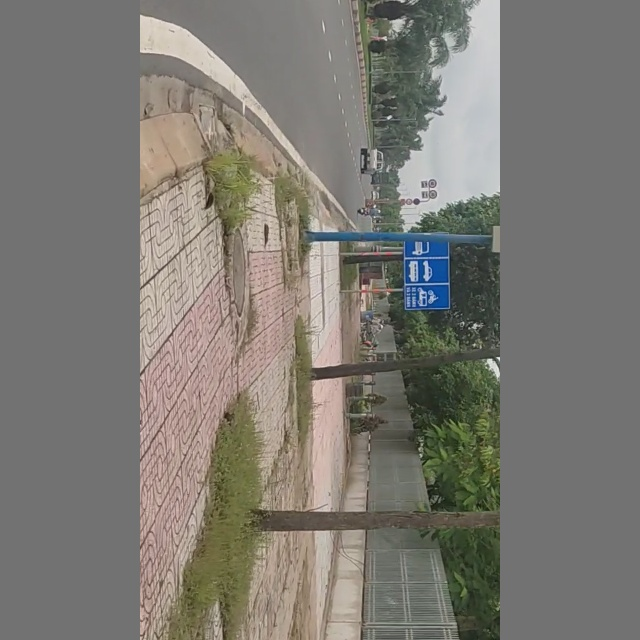R.415a: (401, 231, 453, 313)
